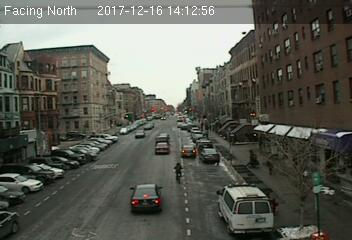bicycle: (173, 162, 184, 185)
car: (128, 184, 163, 212), (199, 149, 221, 163), (180, 145, 196, 157), (155, 141, 169, 154)
police: (217, 182, 279, 238)
